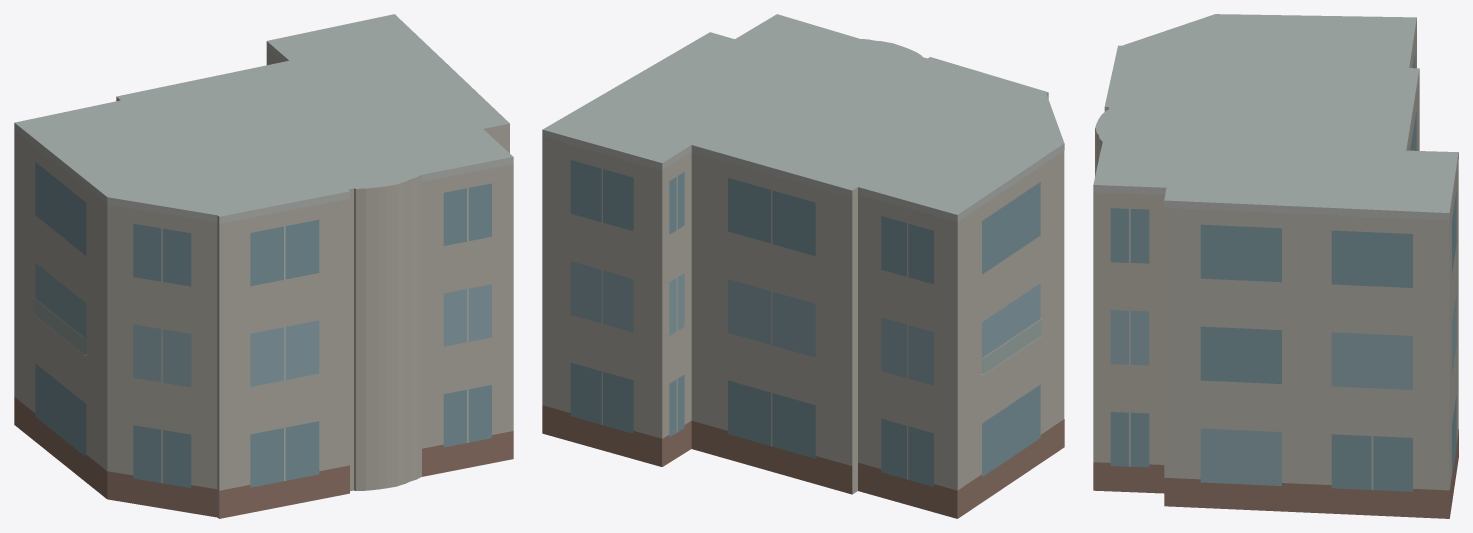
Rendered from survey-upis-32981012.glb.
3 views of the same model, side by side, from view 1: azimuth 30°, elevation 25°; view 2: azimuth 150°, elevation 25°; view 3: azimuth 270°, elevation 25° (orthographic).
Parts seen in each view (by area): view 1: survey-upis-32981012.tmp; view 2: survey-upis-32981012.tmp; view 3: survey-upis-32981012.tmp.
Boxes of the visible parts, box(x1,y1,x2,y2) form: survey-upis-32981012.tmp: box(14, 14, 513, 518); survey-upis-32981012.tmp: box(542, 14, 1064, 518); survey-upis-32981012.tmp: box(1093, 14, 1458, 518).
Bounding box in the file's own units: 14.26 × 10.2 × 11.06.
